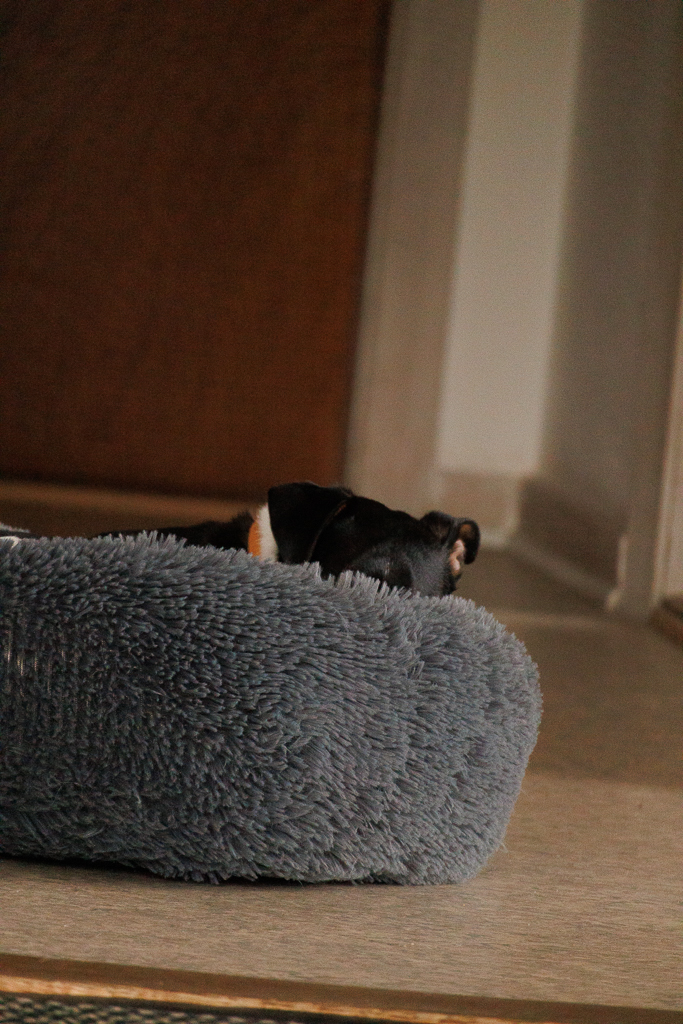Dog: (0, 467, 490, 614)
